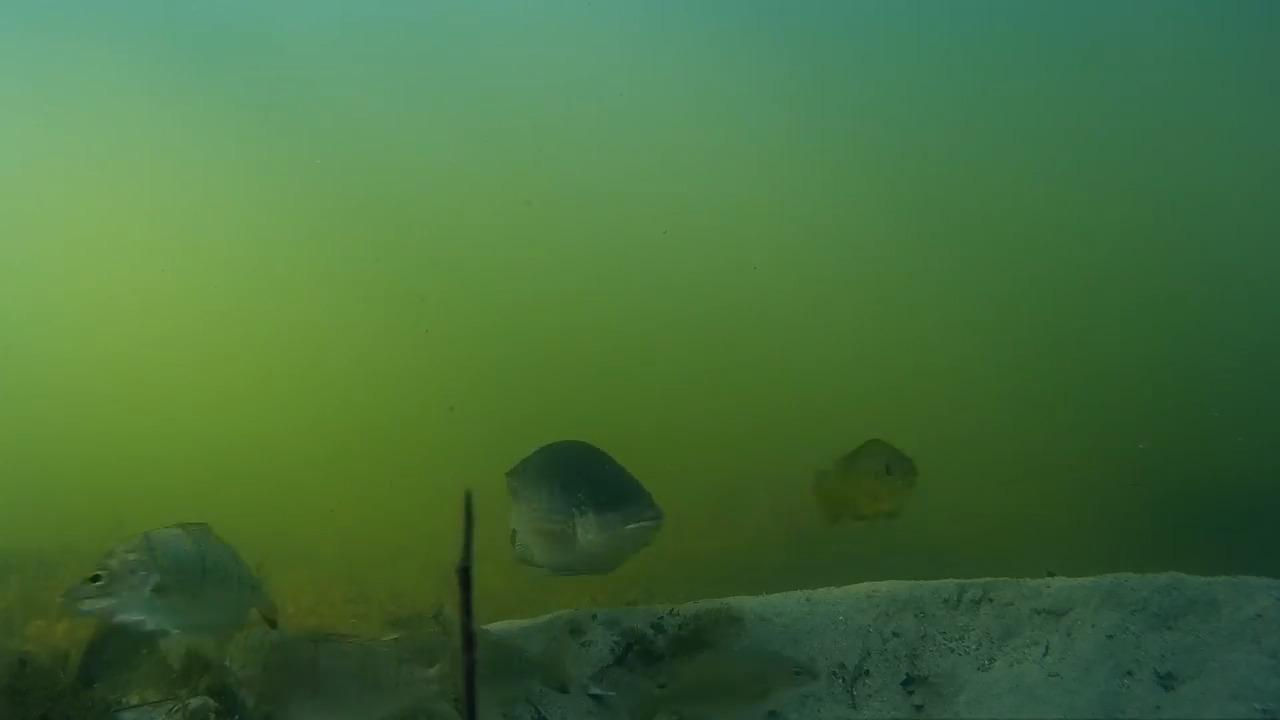Tilapia: (57, 514, 305, 651), (484, 435, 675, 585), (254, 612, 467, 714), (618, 644, 829, 718), (794, 434, 932, 539)
